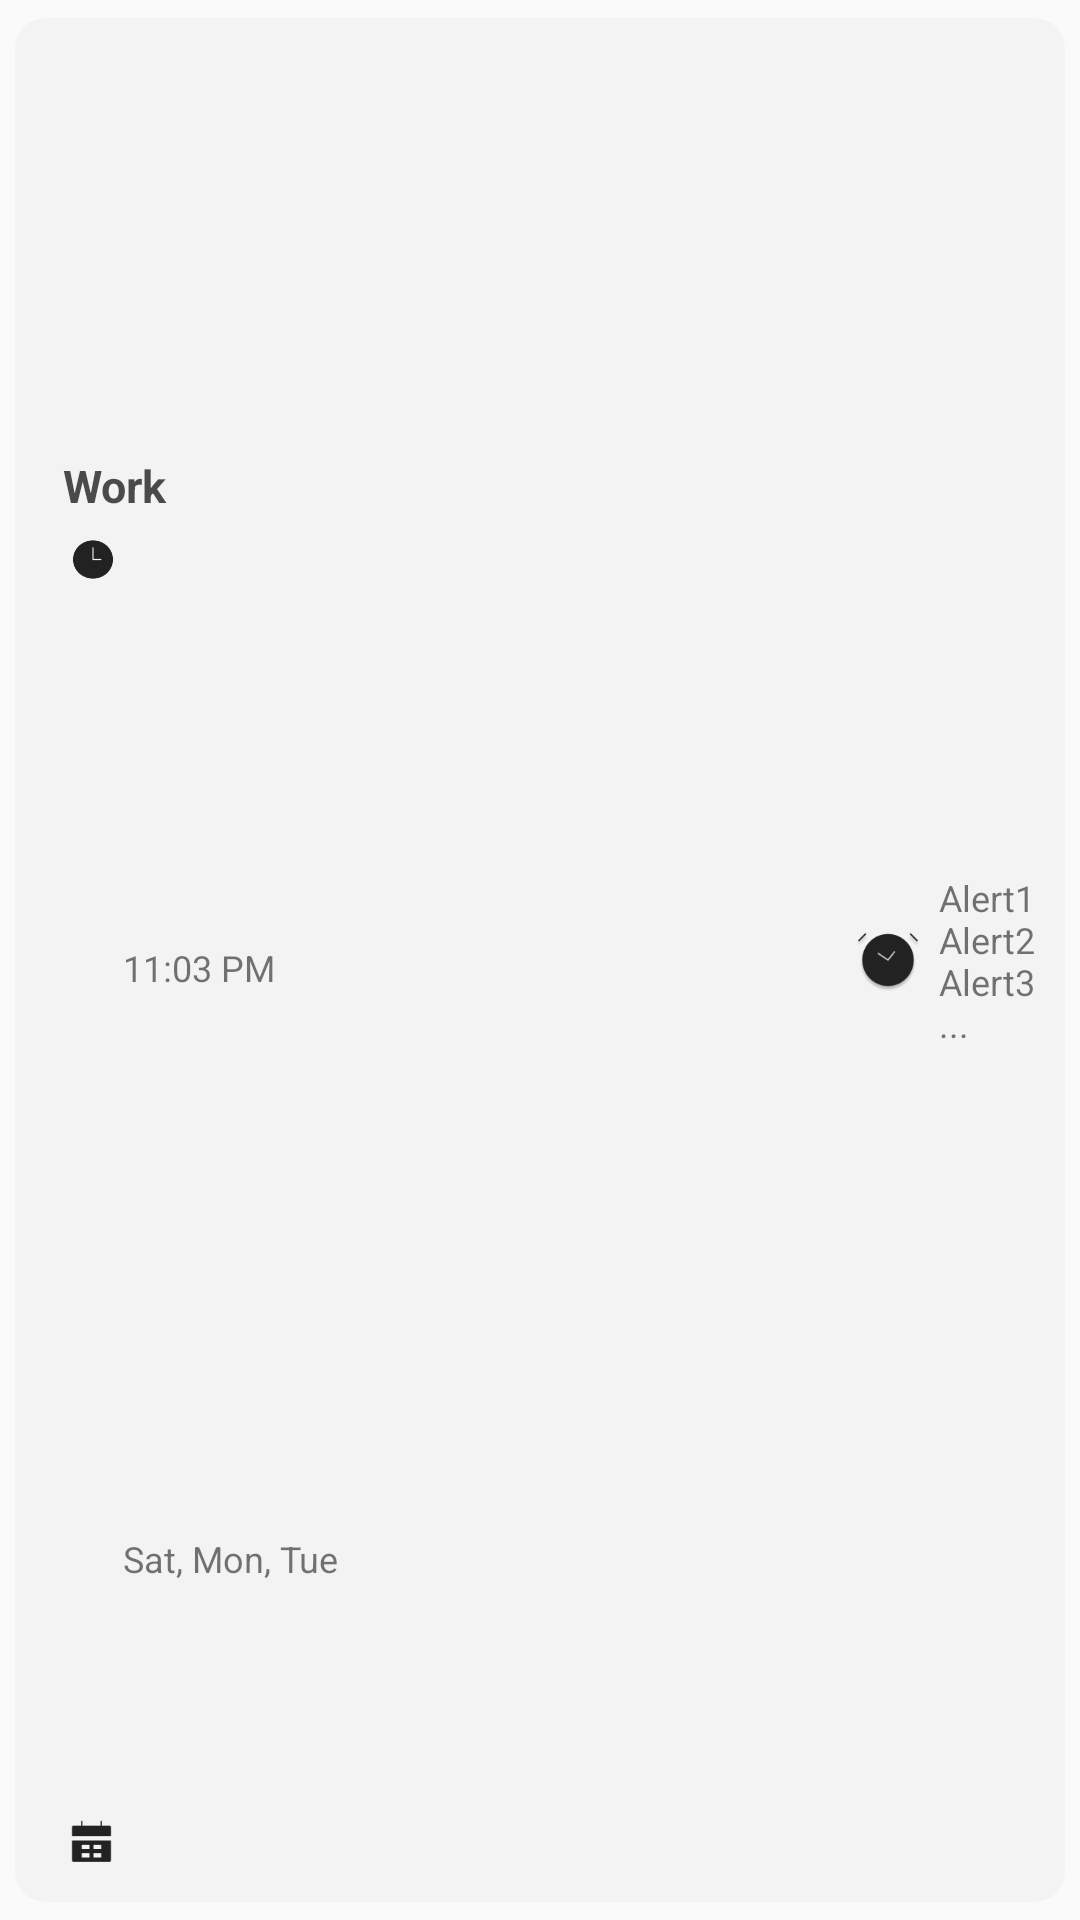

Where to tap for icons on this 1080×1920 app screen, as [x,y]:
alarm: [888,961]
calendar: [91,1841]
clock: [93,559]
